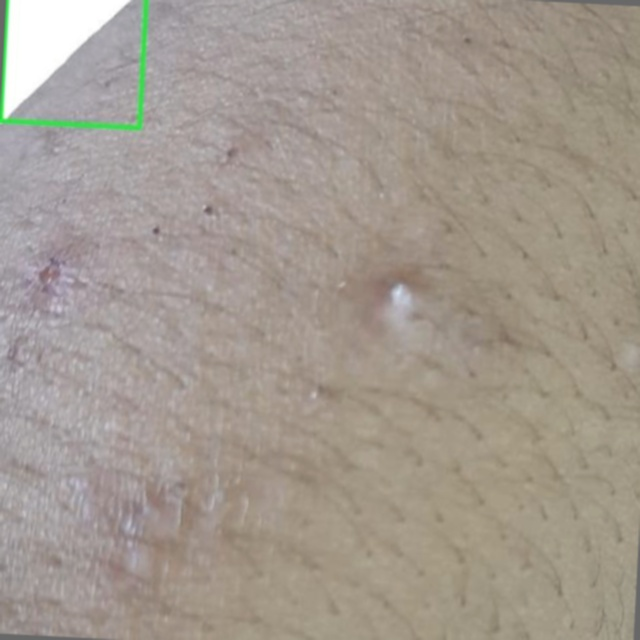Scabies: (0, 0, 146, 128)
